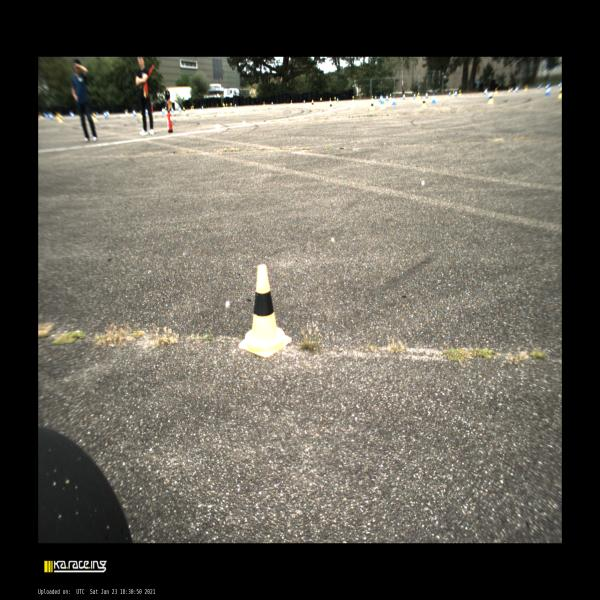blue_cone: (544, 85, 551, 97), (46, 111, 53, 120), (42, 111, 49, 119), (68, 110, 75, 118), (103, 109, 108, 119), (545, 83, 551, 90), (132, 109, 137, 117), (392, 96, 396, 105), (432, 94, 436, 103), (487, 91, 491, 100), (515, 86, 520, 93), (538, 83, 543, 90), (105, 109, 109, 117), (510, 86, 515, 92), (385, 94, 389, 101), (402, 93, 406, 100), (380, 96, 384, 103), (145, 108, 149, 115), (161, 107, 165, 114), (454, 90, 458, 97), (483, 88, 487, 95), (558, 81, 562, 88), (178, 106, 182, 112), (425, 92, 428, 99), (379, 95, 382, 102), (95, 111, 99, 116), (124, 109, 127, 115), (171, 107, 174, 113), (374, 95, 377, 100), (413, 93, 416, 98), (201, 105, 204, 109), (336, 97, 338, 102), (449, 92, 451, 97), (303, 100, 305, 104), (271, 102, 273, 105), (235, 103, 236, 108)
yellow_cone: (238, 264, 292, 358), (487, 92, 494, 104), (421, 97, 427, 109), (58, 111, 63, 123), (92, 112, 98, 122), (328, 102, 334, 112), (557, 87, 562, 99), (38, 111, 44, 119), (370, 100, 374, 111), (320, 97, 324, 106), (139, 110, 143, 118), (182, 107, 186, 115), (222, 102, 226, 110), (458, 89, 462, 97), (126, 109, 130, 116), (164, 107, 168, 114), (416, 92, 420, 99), (494, 87, 498, 94), (514, 85, 518, 92), (524, 84, 528, 91), (311, 100, 314, 109), (230, 102, 233, 110), (334, 96, 337, 104), (389, 94, 392, 101), (352, 96, 355, 102), (107, 110, 110, 116), (290, 99, 293, 105), (508, 86, 511, 92), (190, 105, 193, 110), (329, 97, 332, 102), (371, 95, 374, 100), (226, 103, 228, 110), (486, 87, 488, 94), (263, 102, 265, 108), (452, 90, 454, 96), (192, 105, 194, 110)
